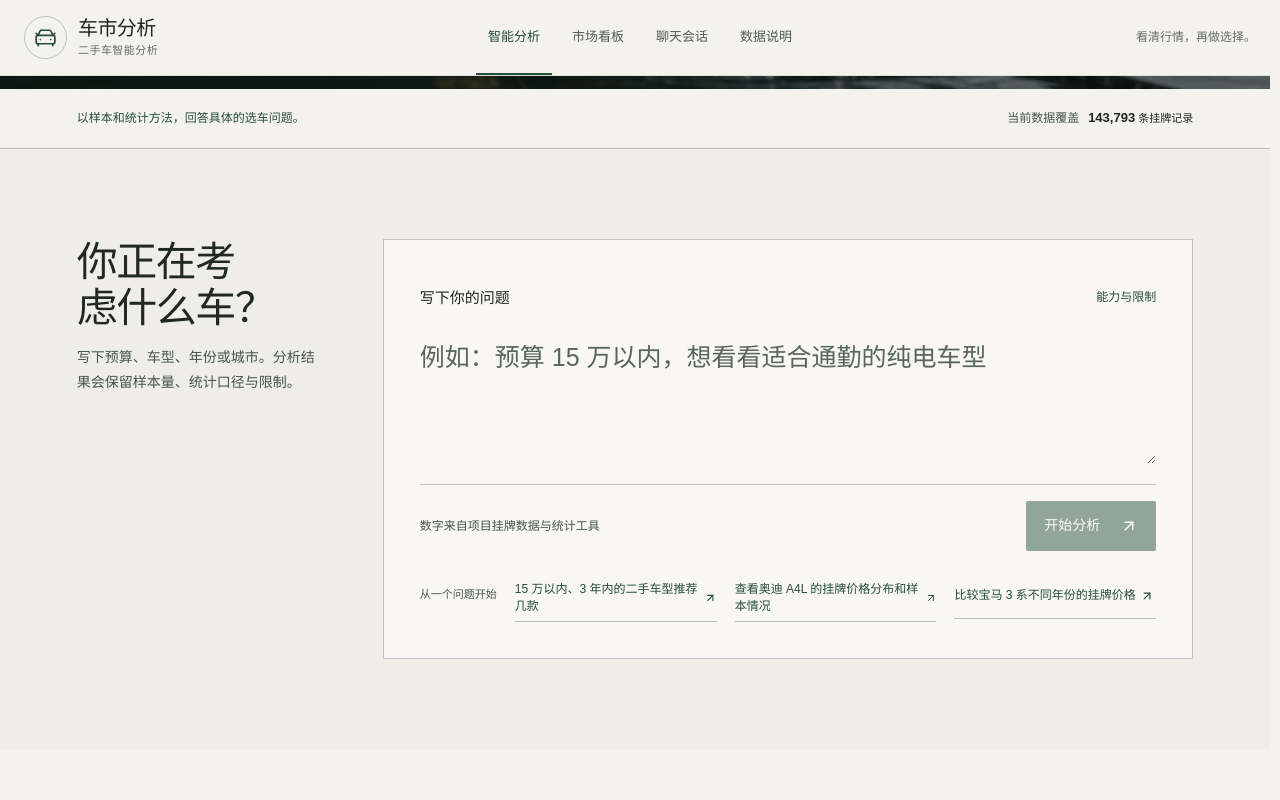
Scenario: homepage to conversation › retains the failed message and restores the draft after entering chat
(page scrolled)
In the text box labelled "写下你的问题": (788, 401) [420,338,1156,464], type "A4L 行情"
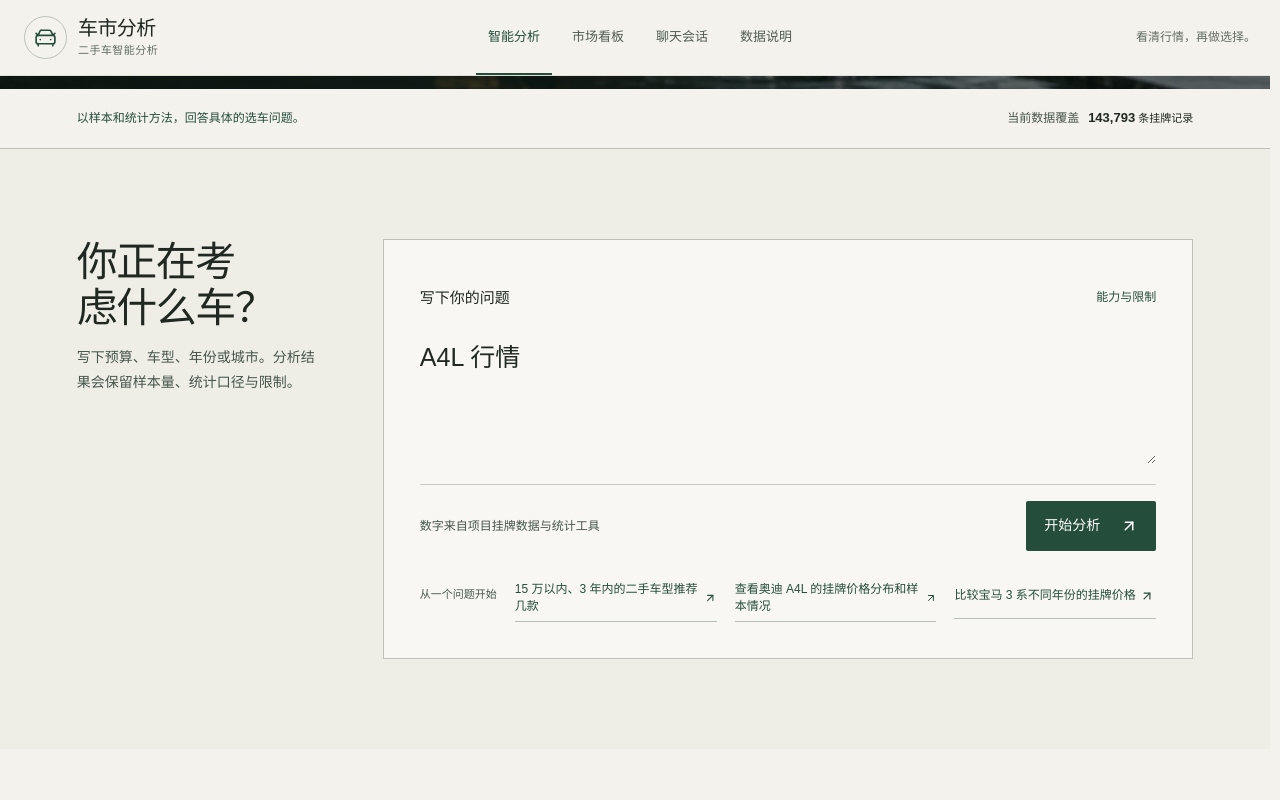
Submit the form with class "composer", box [383,239,1193,659]
(page scrolled)
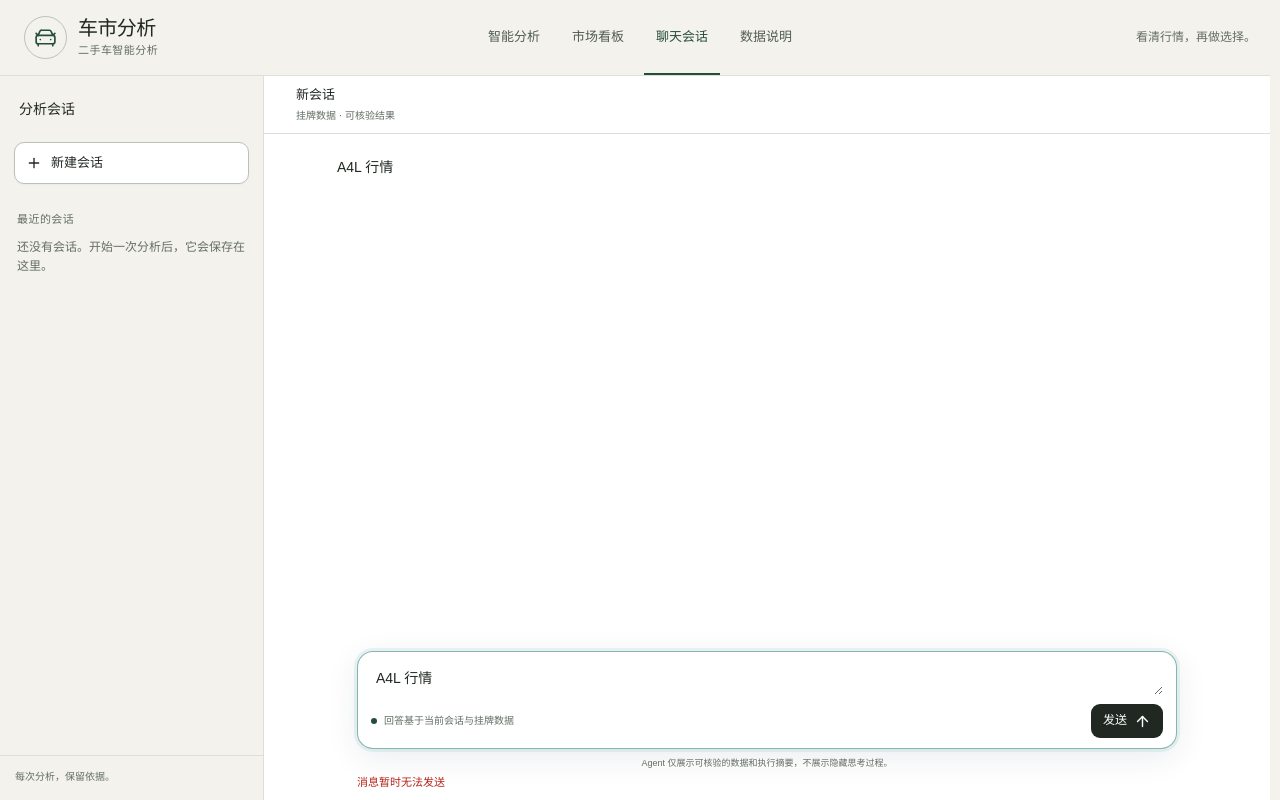
Check: the text with class "message-bubble" reads "A4L 行情", box [337,159,393,175]
Check: the text box with id "chat-message" holds "A4L 行情", box [371,664,1163,695]
Check: the message with class "chat-send-error" reads "消息暂时无法发送", box [357,776,445,788]
